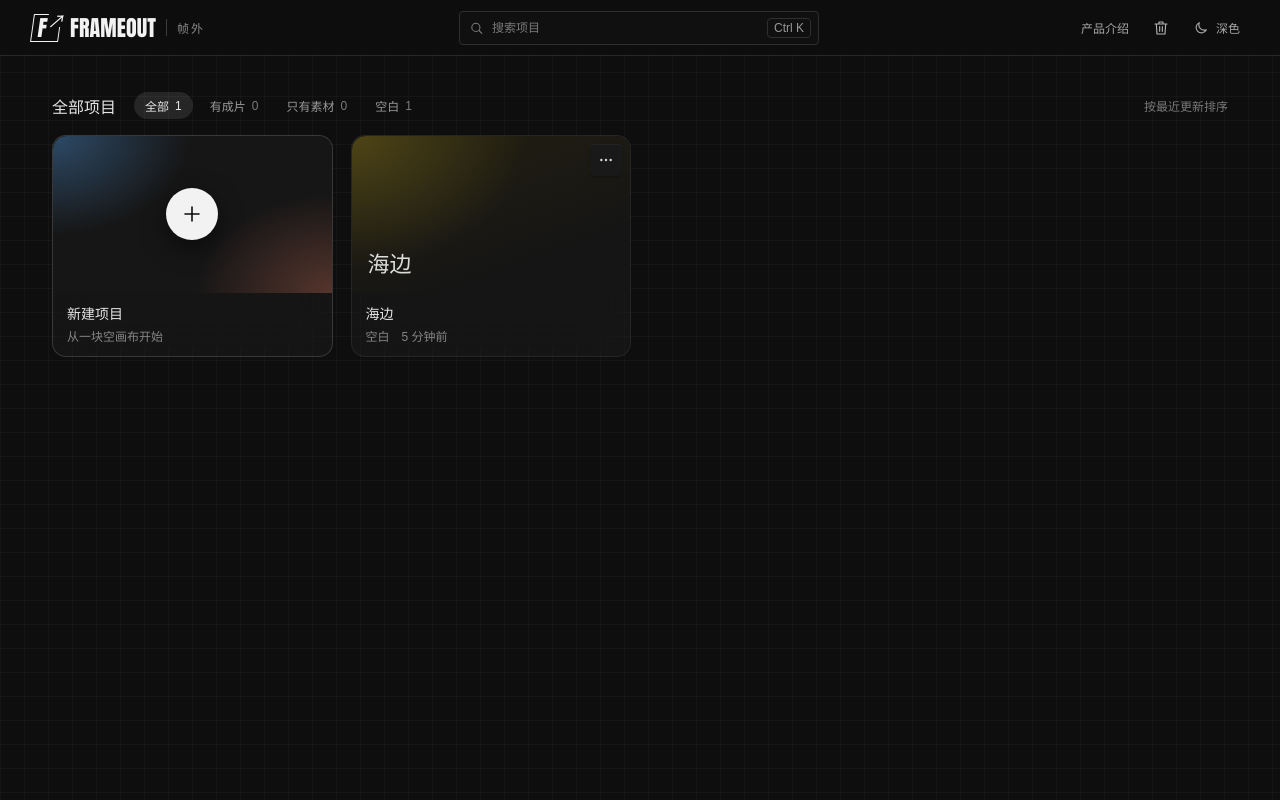
it: project lobby › renames a project from the card menu
The image size is (1280, 800).
Later steps or results of the test are not shown.
Click the button named "「海边」更多操作": [606, 160] box x1=590 y1=144 x2=622 y2=176
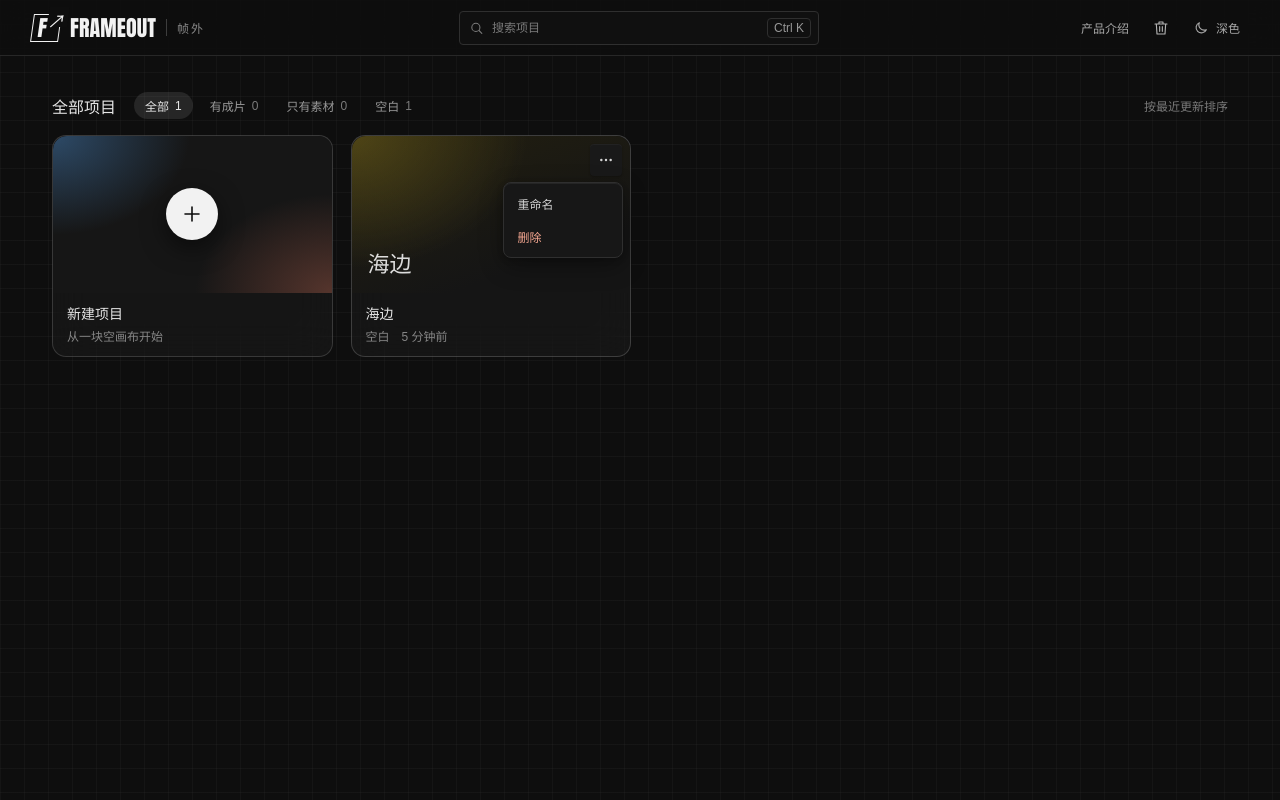
Note: Radix names the menu after the button that opens it.
Click the menu item "重命名": [536, 205] box x1=518 y1=198 x2=554 y2=212
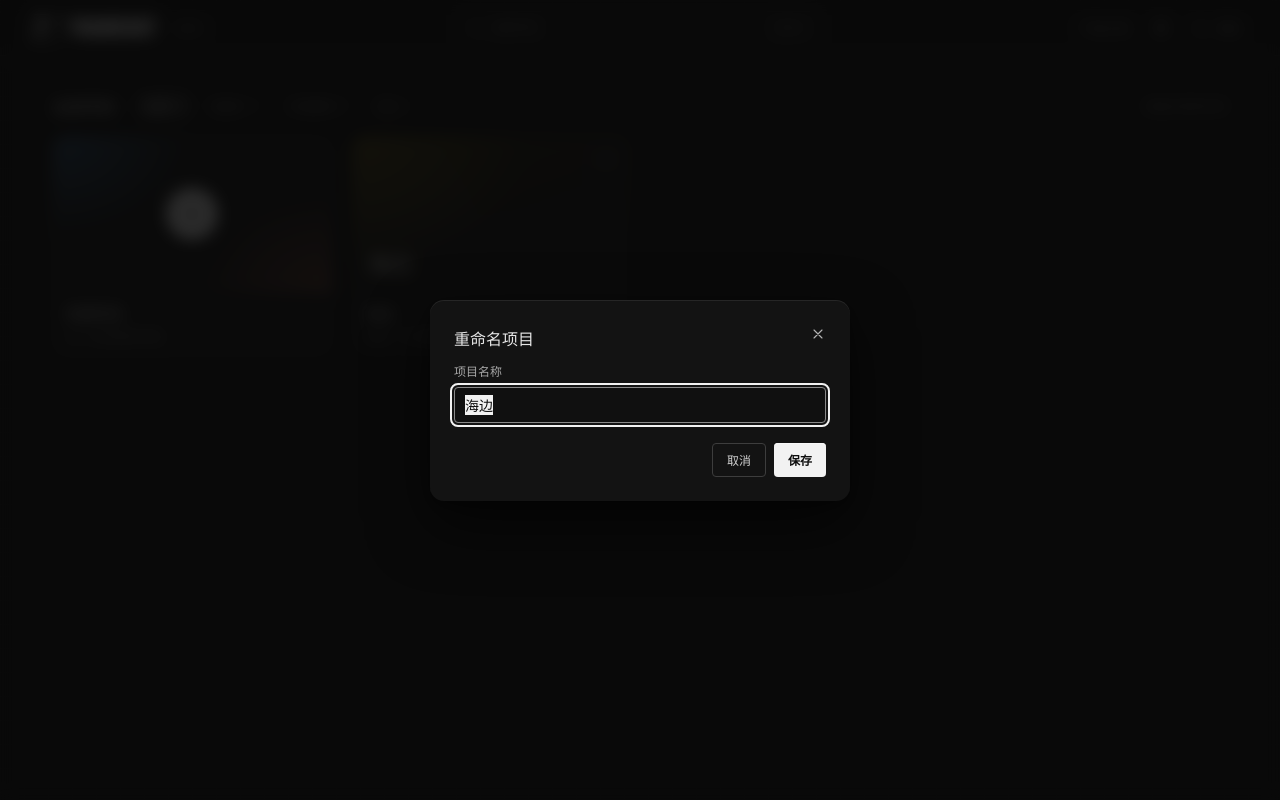
Clear the field labelled "项目名称": [640, 404] box x1=454 y1=386 x2=826 y2=422
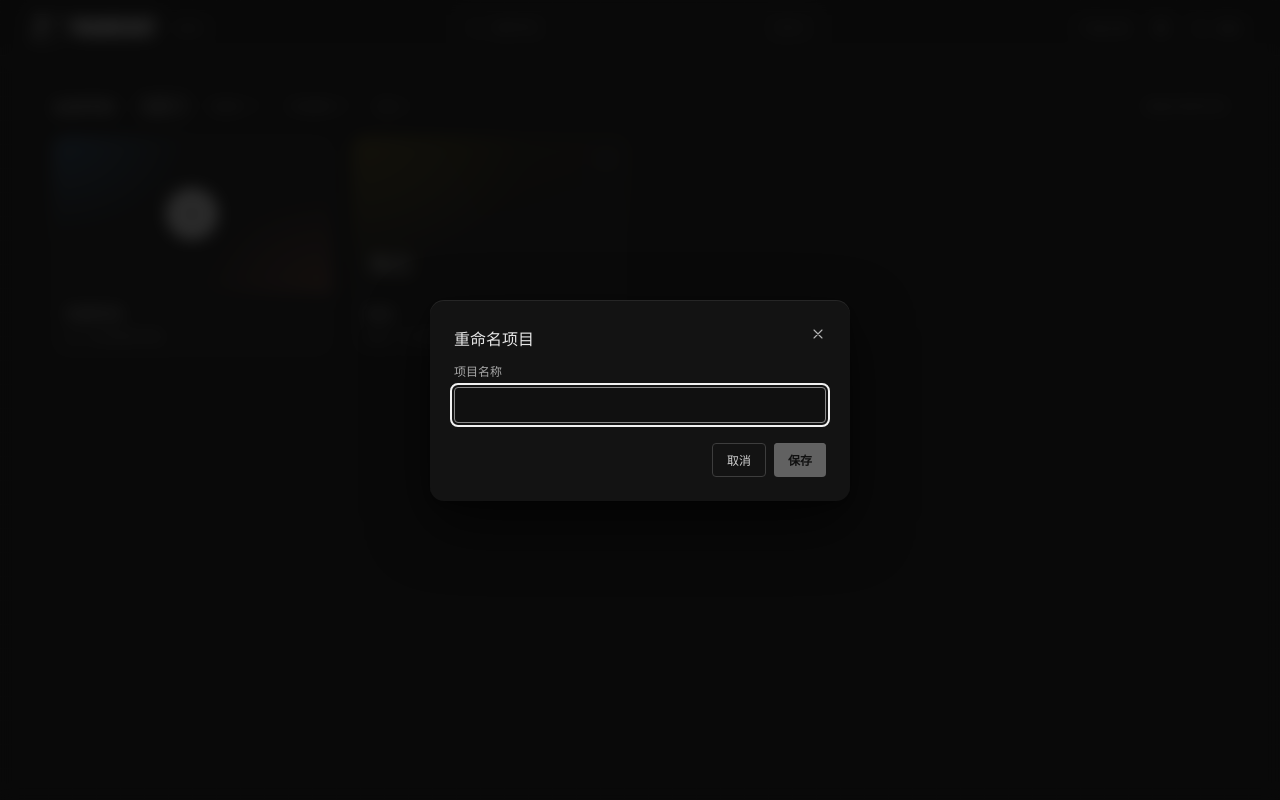
Now the button "保存" is disabled, box x1=774 y1=442 x2=826 y2=476
